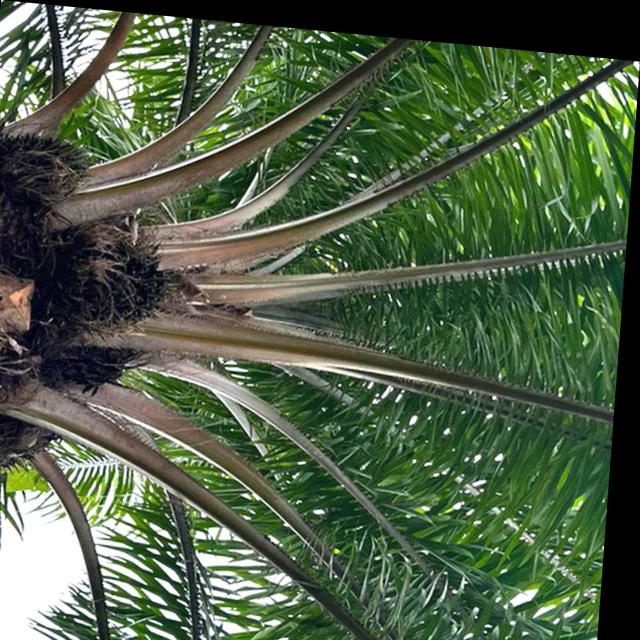unripe: (62, 216, 176, 330)
